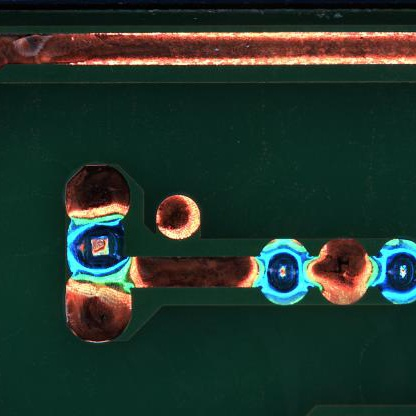spot: (68, 218, 129, 281), (262, 238, 309, 306), (373, 238, 416, 307)
